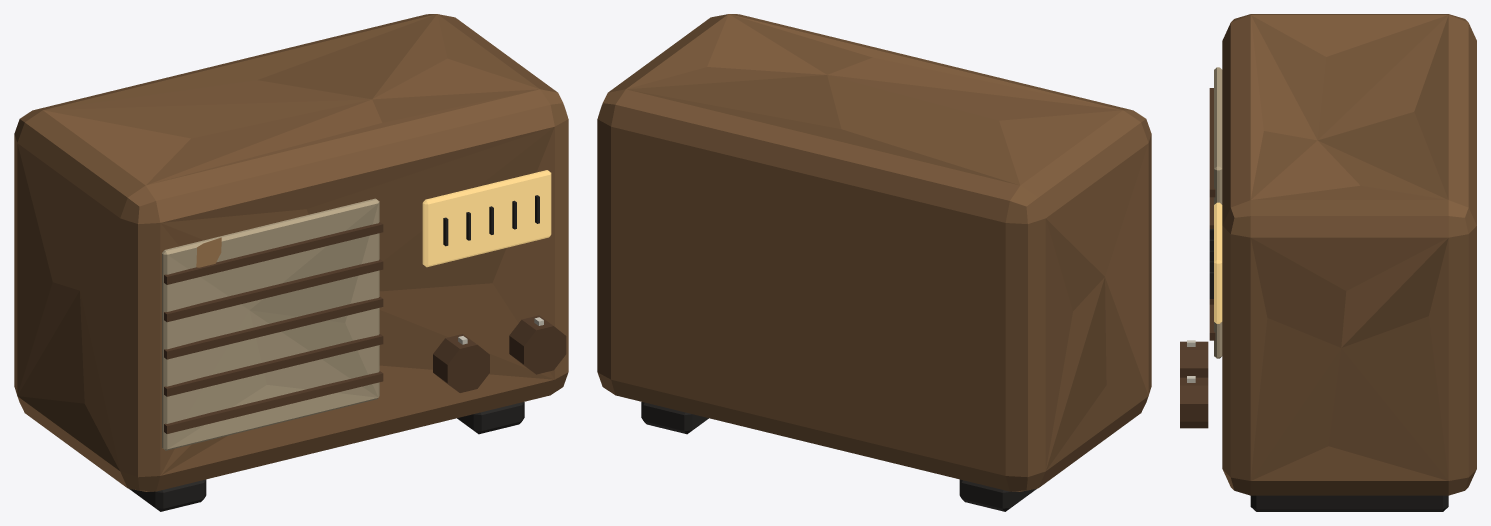
File: radio_desk_nastolnyy_idle.glb
3 renders of one model, left to right at view 1: azimuth 30°, elevation 25°; view 2: azimuth 150°, elevation 25°; view 3: azimuth 270°, elevation 25°, orthographic. The views are drawn at different scales.
Visible parts, largest first — view 1: radio_desk_nastolnyy_idle; view 2: radio_desk_nastolnyy_idle; view 3: radio_desk_nastolnyy_idle.
Part boxes in pixels (bbox=[...]): radio_desk_nastolnyy_idle: bbox=[14, 14, 568, 511]; radio_desk_nastolnyy_idle: bbox=[597, 14, 1151, 511]; radio_desk_nastolnyy_idle: bbox=[1180, 14, 1476, 511].
Bounding box in the file's own units: 0.35 × 0.25 × 0.21.
Materials: 2 (2 with a texture image).
